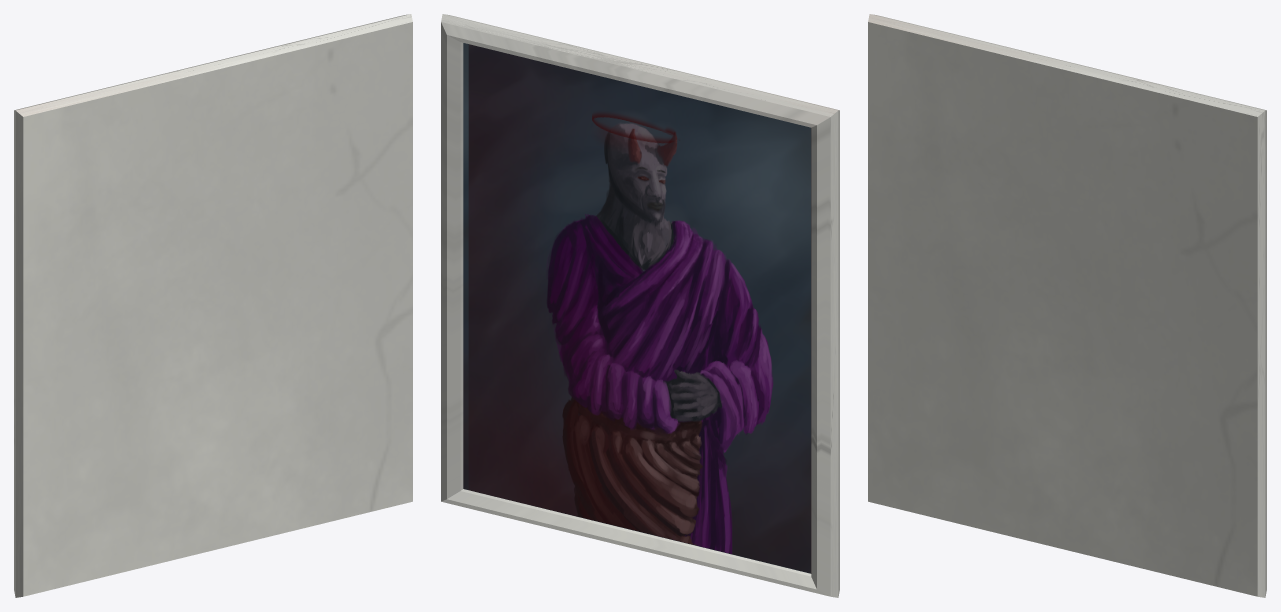
The model's file is MOD_L1_Painting01.fbx.
3 views of the same model, side by side, from view 1: azimuth 30°, elevation 25°; view 2: azimuth 150°, elevation 25°; view 3: azimuth 330°, elevation 25° (orthographic).
Visible parts, largest first — view 1: Cube.007; view 2: Cube.007; view 3: Cube.007.
Part boxes in pixels (left/top/right/bottom): Cube.007: left=14, top=14, right=412, bottom=597; Cube.007: left=441, top=14, right=839, bottom=597; Cube.007: left=868, top=14, right=1266, bottom=597.
Size of the model in its own units: 64.85 by 76.29 by 3.74.
